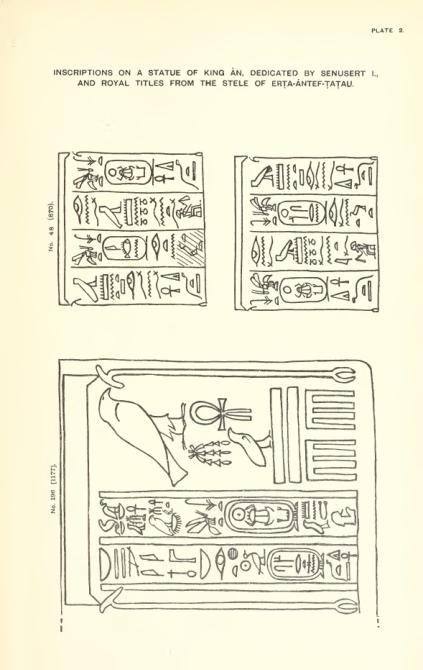circle: (223, 498, 302, 537), (265, 545, 326, 580), (103, 156, 157, 190), (278, 276, 331, 307), (277, 196, 330, 226), (100, 234, 152, 264)
